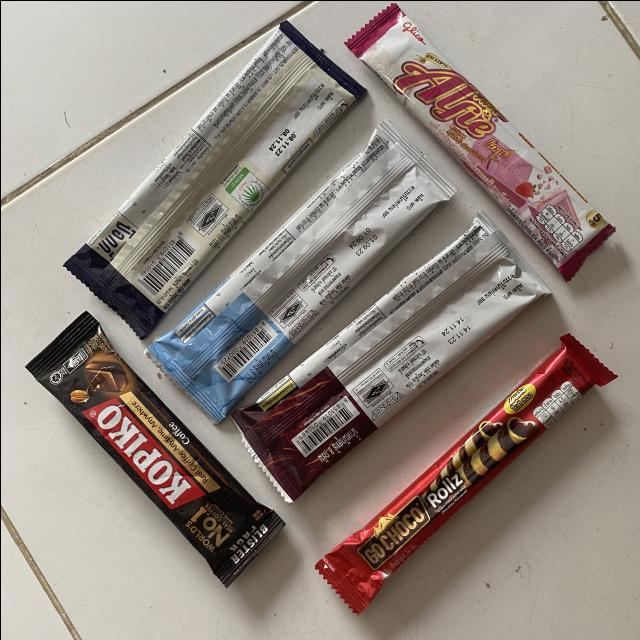plastik: (65, 21, 363, 337), (146, 119, 454, 421), (231, 214, 548, 500), (315, 334, 616, 613), (345, 4, 614, 280), (25, 311, 283, 586)
